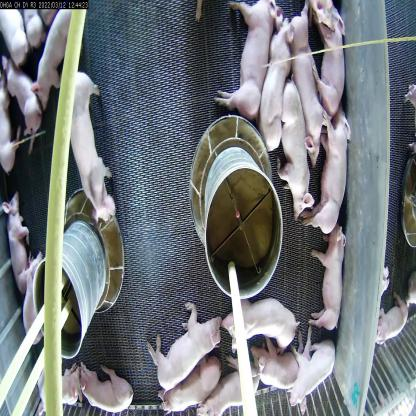Pig: (62, 70, 117, 229), (280, 0, 328, 168), (141, 301, 223, 392), (210, 0, 274, 115), (300, 97, 352, 236), (278, 73, 319, 218), (223, 293, 302, 355), (307, 3, 347, 120), (248, 324, 314, 394), (262, 16, 292, 153), (33, 9, 73, 107), (309, 228, 346, 332), (196, 356, 260, 416), (153, 356, 220, 413), (289, 338, 338, 415), (76, 360, 137, 416), (0, 186, 31, 293), (3, 56, 42, 135), (371, 280, 410, 352), (19, 254, 48, 344), (0, 76, 25, 179), (42, 364, 85, 404)
